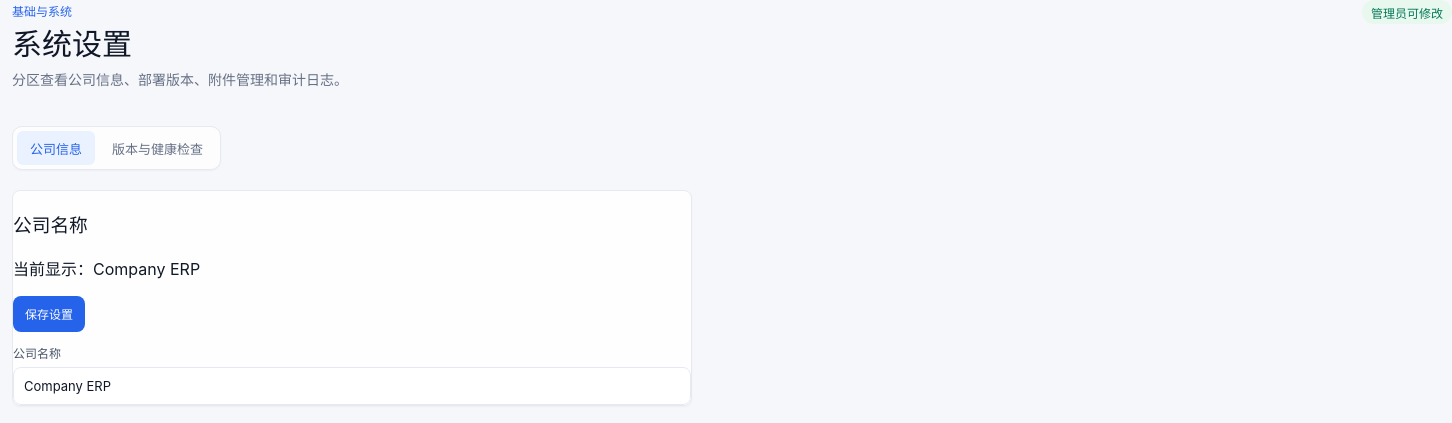
Test: SystemSettingsWorkspace › shows a clear deployment version failure state
Click the tab "版本与健康检查" at (158, 148), box [99,132,216,166]
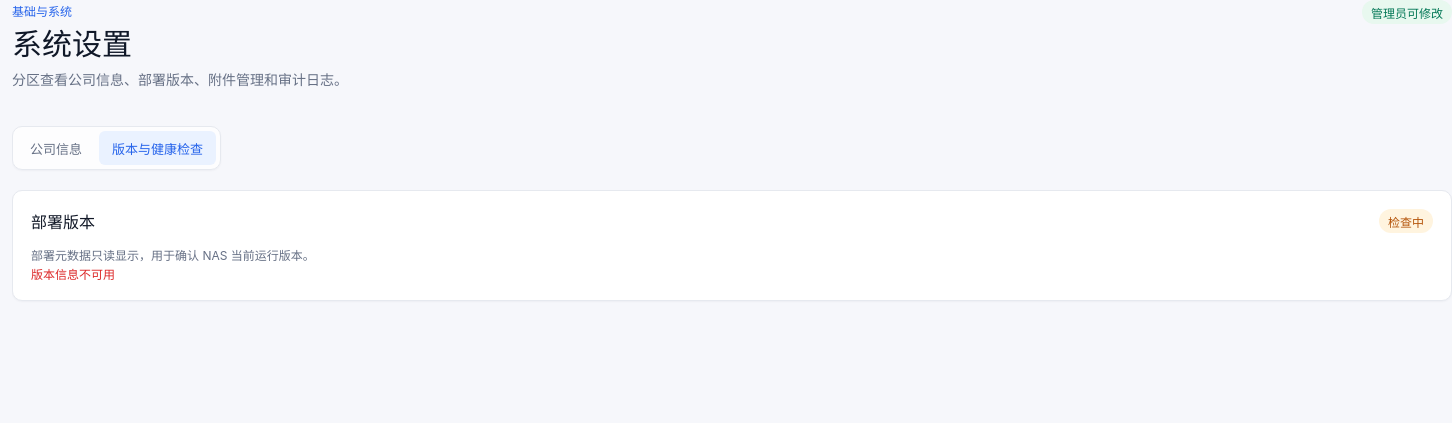
Expected: the text "版本信息不可用" is shown, [31,268,115,282]
